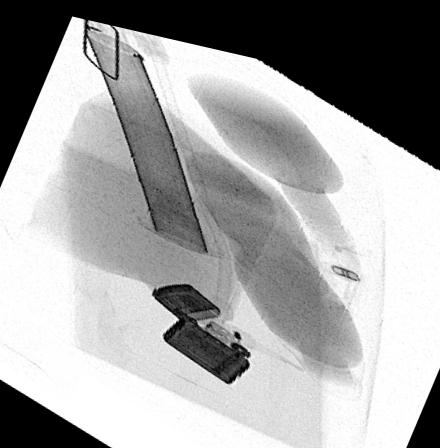Lighter: (150, 272, 251, 374)
